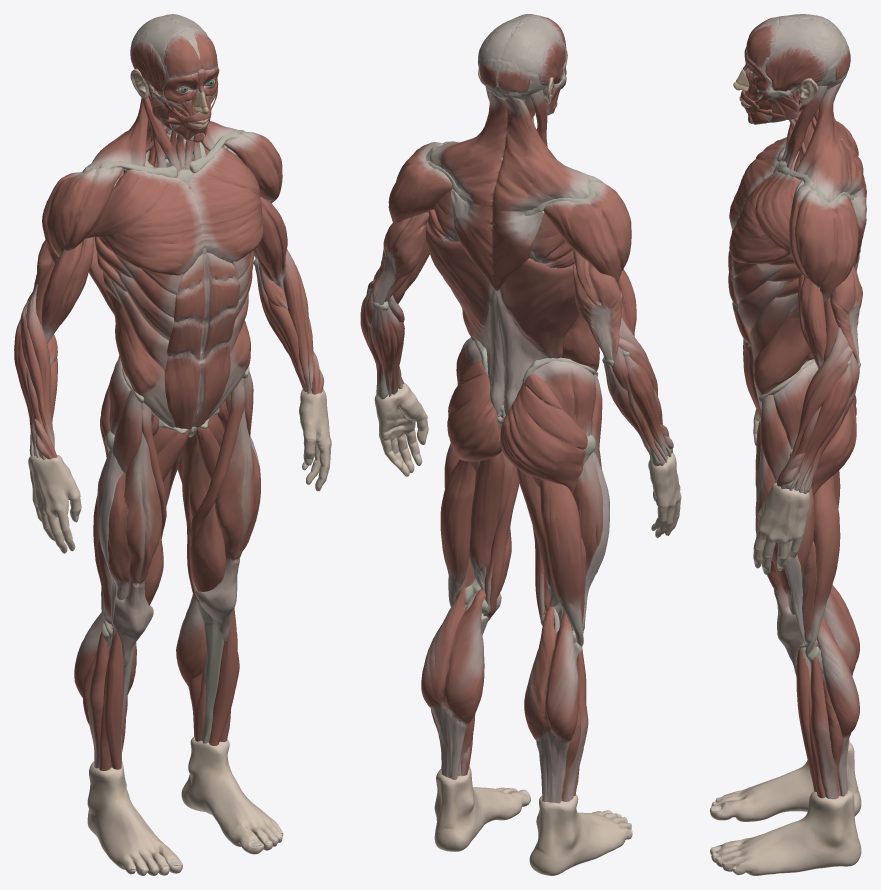
Rendered from ecorche_symmetric_mixamo.fbx.
3 views of the same model, side by side, from view 1: azimuth 30°, elevation 25°; view 2: azimuth 150°, elevation 25°; view 3: azimuth 270°, elevation 25° (orthographic).
Parts seen in each view (by area): view 1: EcoSym; view 2: EcoSym; view 3: EcoSym.
Part boxes in pixels (x1=…): EcoSym: x1=14, y1=14, x2=331, y2=875; EcoSym: x1=360, y1=14, x2=681, y2=875; EcoSym: x1=710, y1=14, x2=866, y2=875.
Size of the model in its own units: 65.68 by 175 by 30.26.
